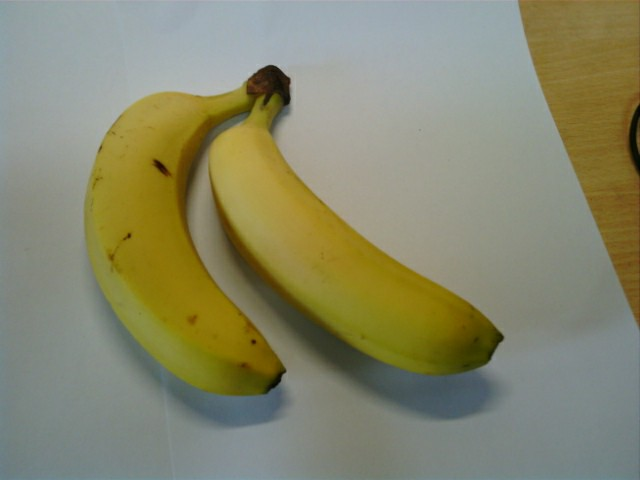fresh_banana: (211, 118, 503, 377)
normal_banana: (85, 88, 283, 397)
